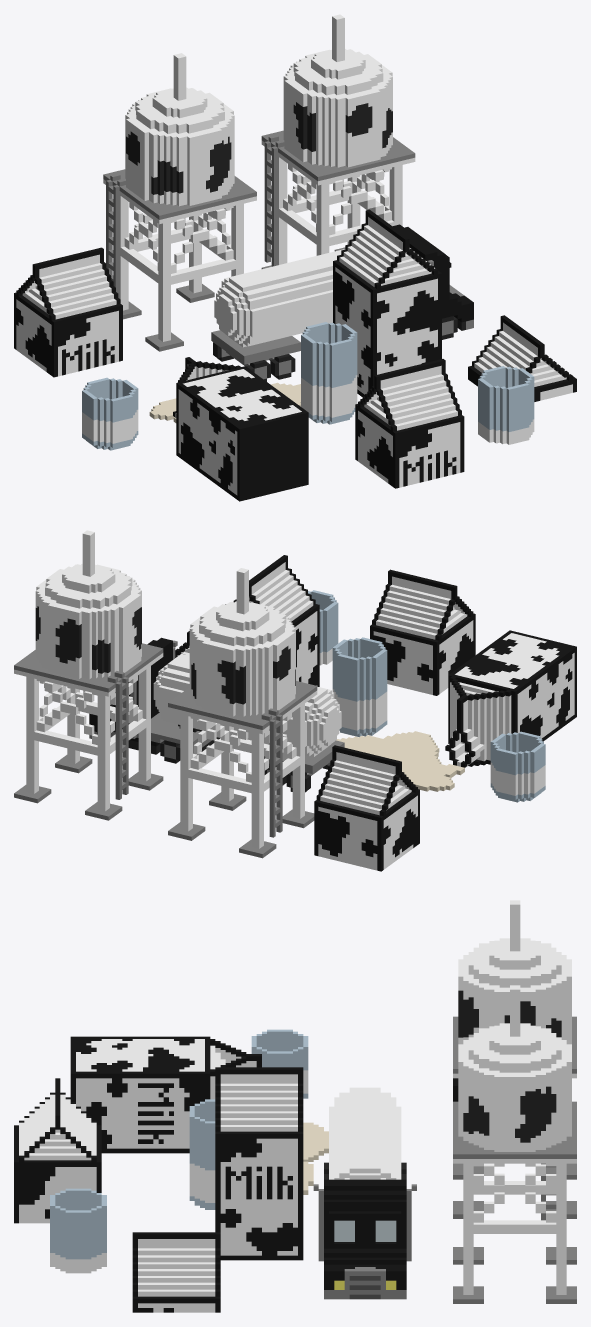
The model's file is milk-1.obj.
The picture shows the model from 3 angles, top to bottom: view 1: azimuth 30°, elevation 25°; view 2: azimuth 150°, elevation 25°; view 3: azimuth 270°, elevation 25°; orthographic projection. The views are drawn at different scales.
Parts seen in each view (by area): view 1: milk-1; view 2: milk-1; view 3: milk-1.
Part boxes in pixels (x1,y1,x2,y2): milk-1: (14, 14, 576, 501); milk-1: (14, 530, 576, 871); milk-1: (14, 900, 576, 1312).
Size of the model in its own units: 104 by 62 by 109.
Materials: 1 (1 with a texture image).
